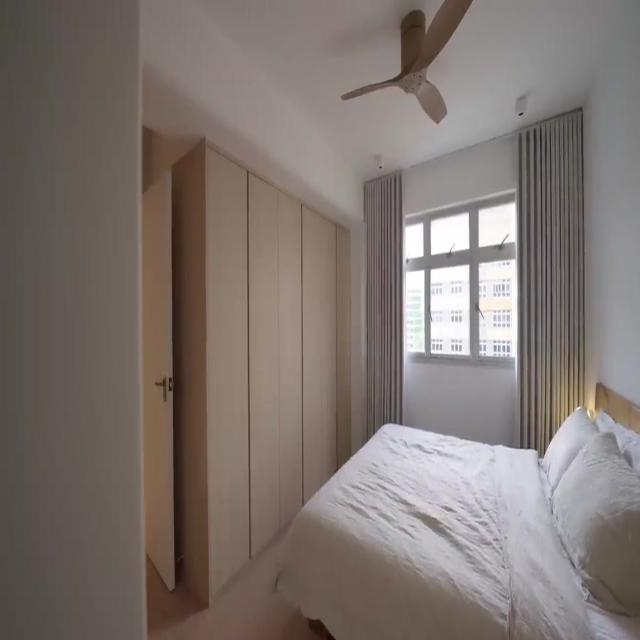door: (142, 169, 176, 592)
obstacle: (275, 381, 639, 639)
